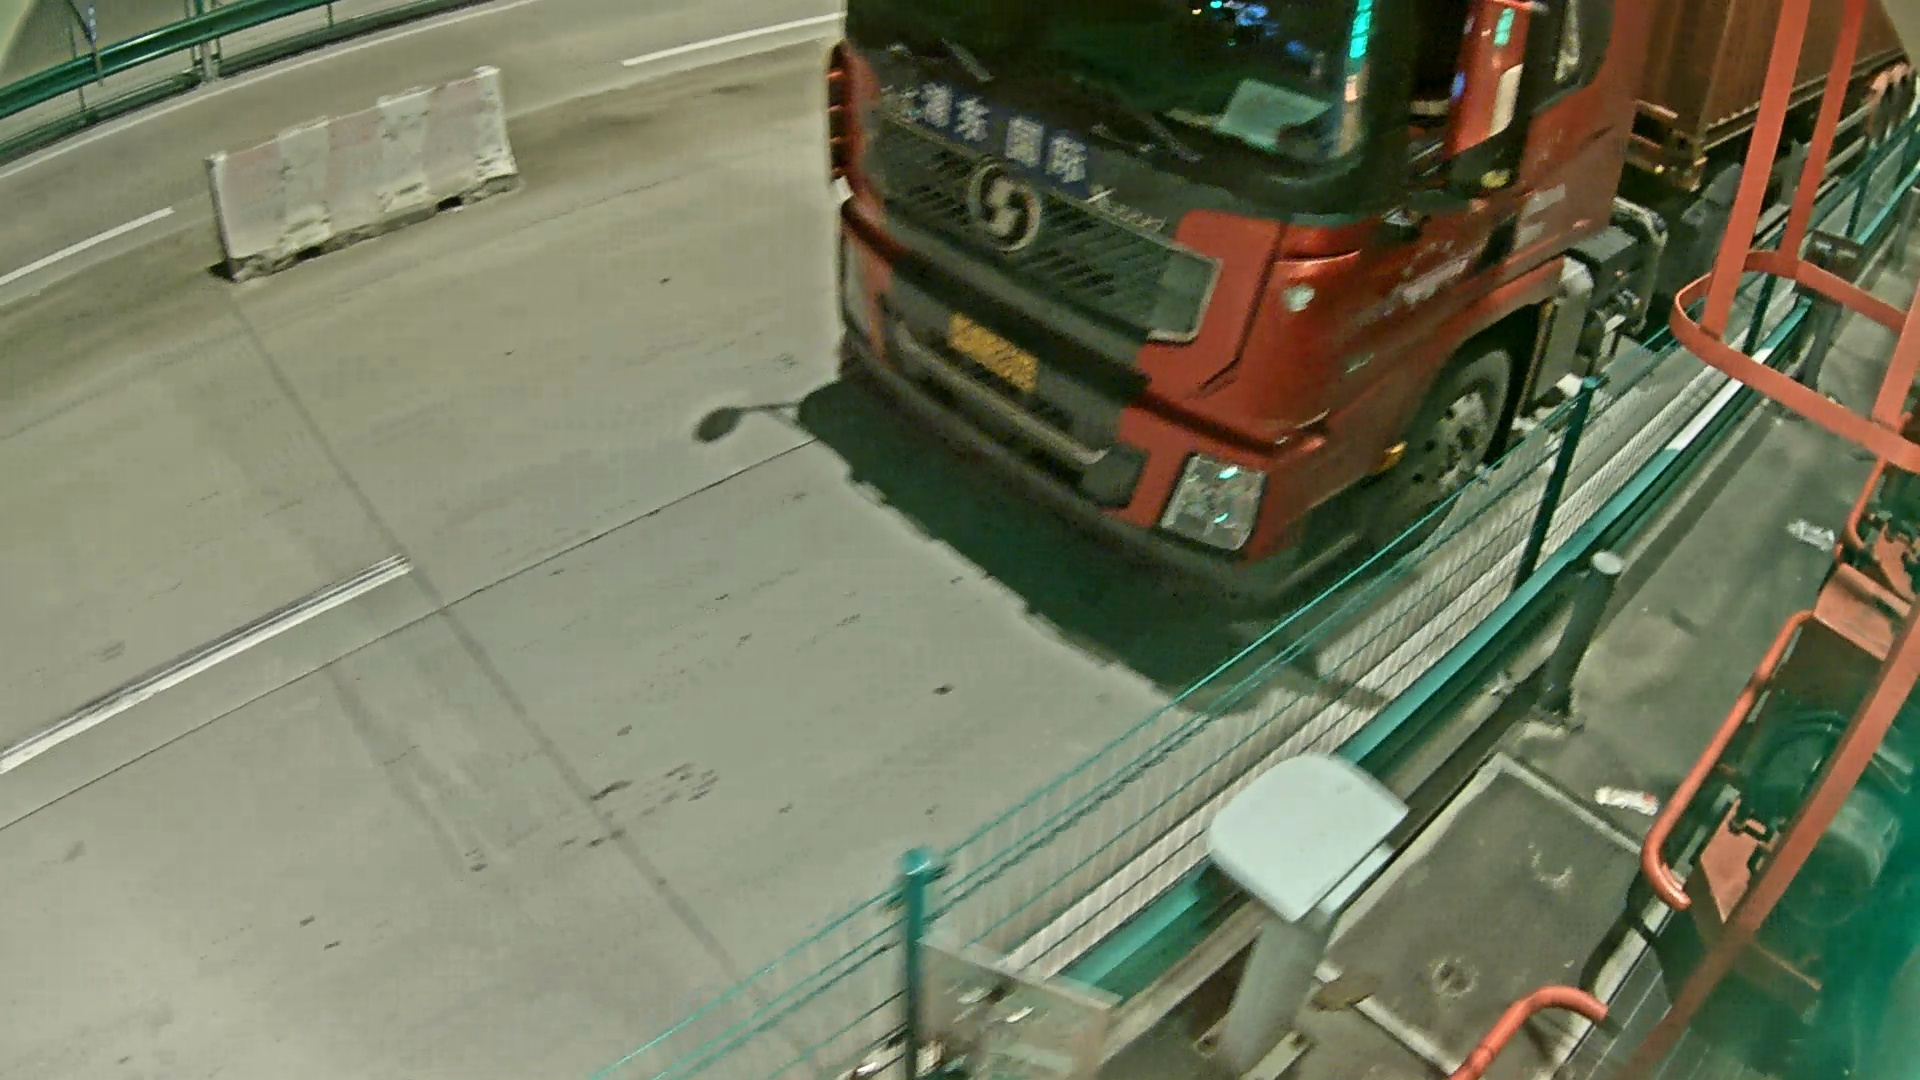head: (816, 14, 1537, 614)
plate: (939, 306, 1064, 410)
